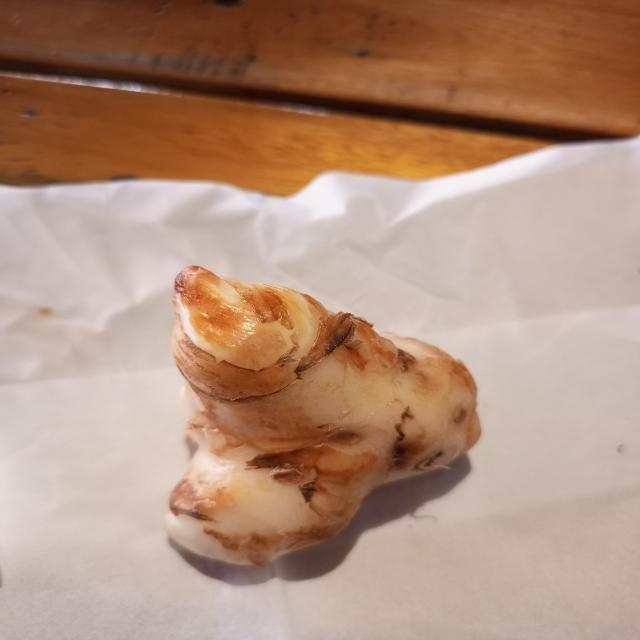ginger: (161, 256, 485, 570)
